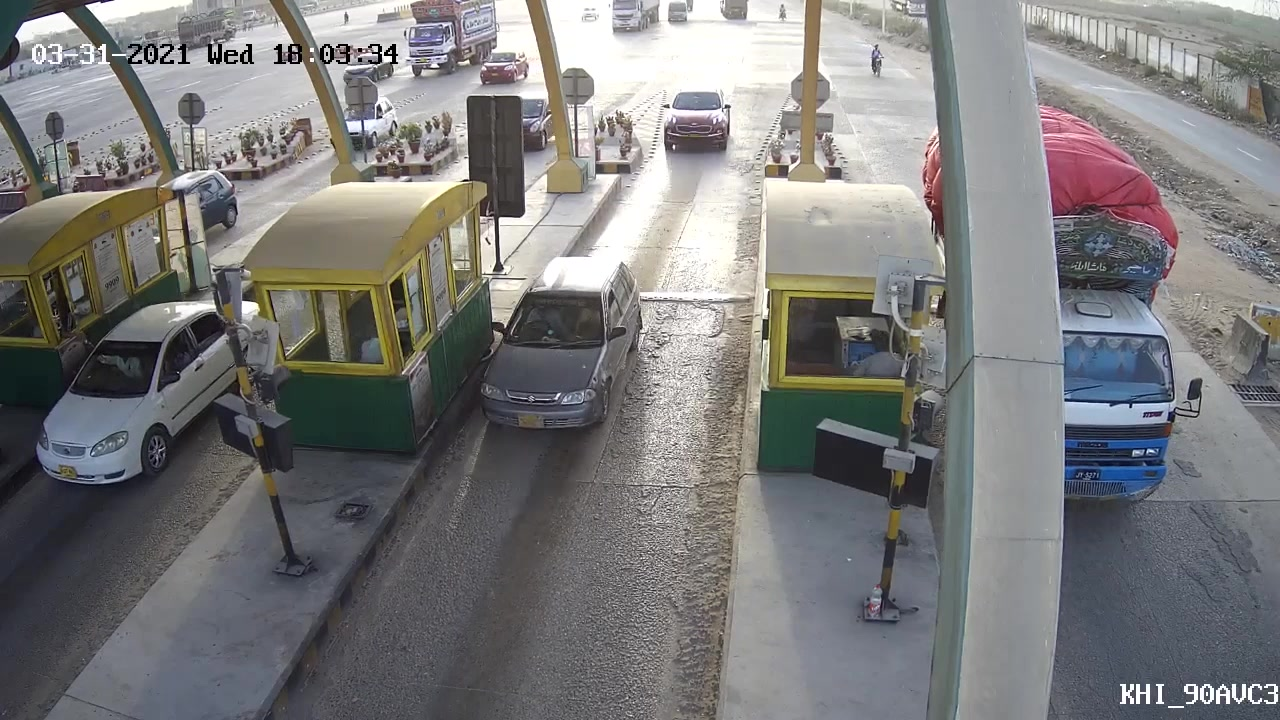F1: (468, 251, 650, 436)
